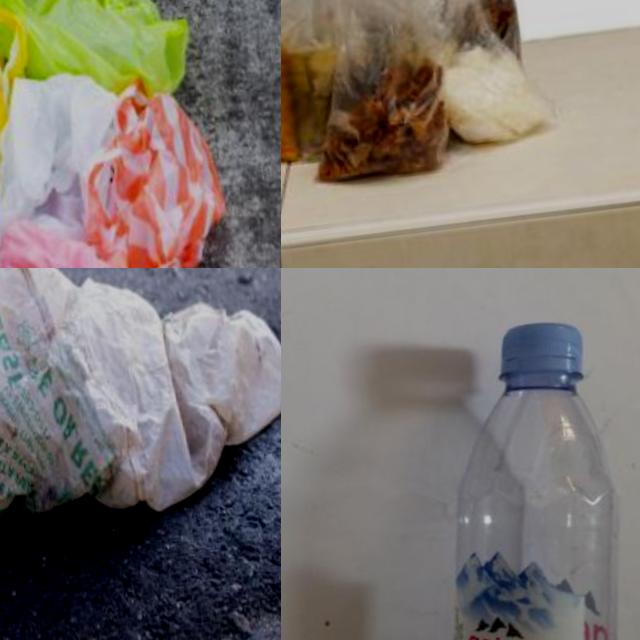garrafa plástica: (408, 365, 640, 640)
sacola plástica: (0, 268, 281, 565), (296, 0, 466, 222), (87, 77, 241, 268), (0, 0, 203, 113), (436, 0, 551, 196), (315, 0, 533, 89), (0, 73, 119, 229), (281, 0, 309, 236)
tampa plástica: (491, 317, 588, 390)
